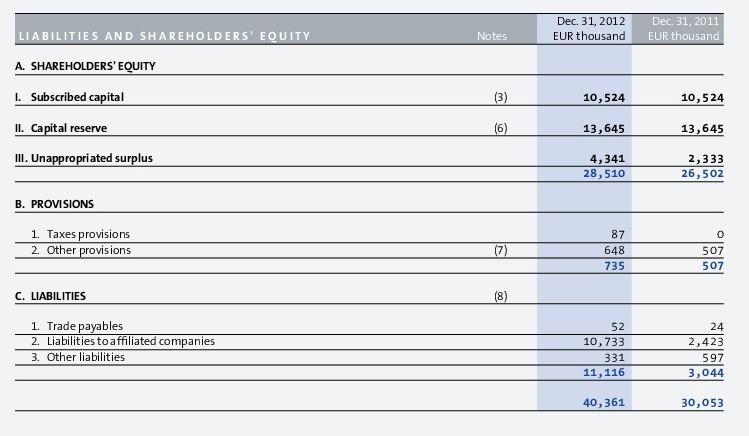table: (0, 0, 749, 436)
